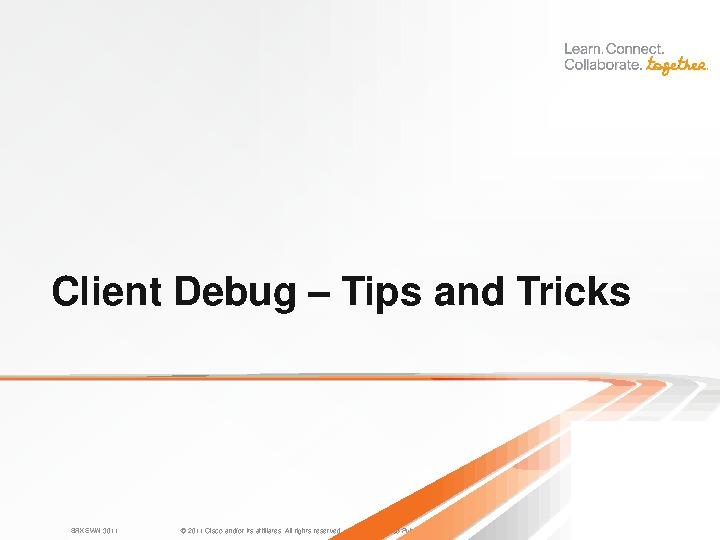title: (39, 263, 643, 328)
